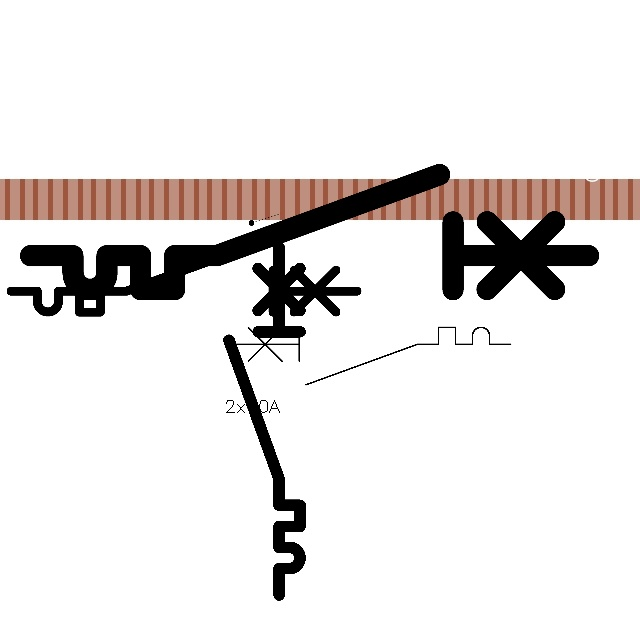interruptor_termomagnetico: (16, 160, 603, 304), (220, 238, 309, 603), (2, 232, 366, 321), (224, 320, 518, 392)
